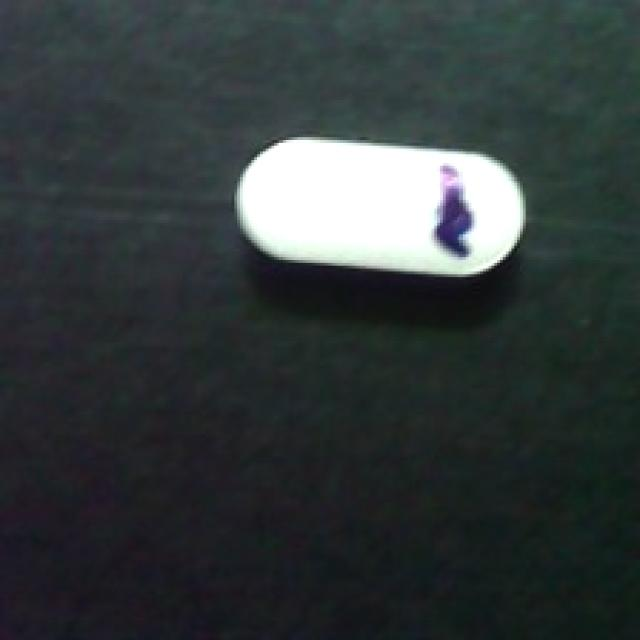defected: (229, 126, 529, 300)
